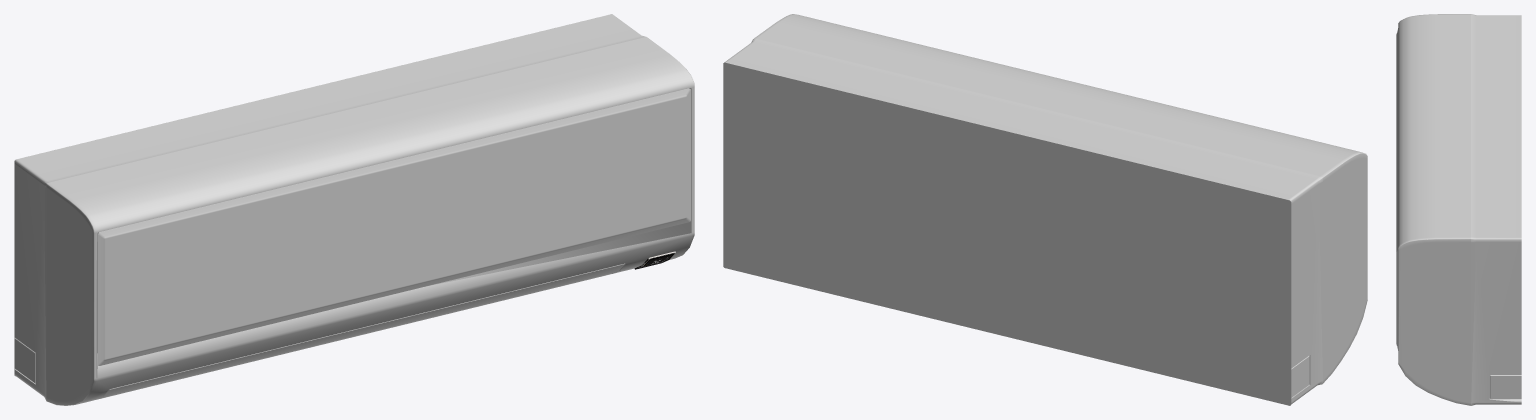
The model's file is air_conditioner.glb.
3 views of the same model, side by side, from view 1: azimuth 30°, elevation 25°; view 2: azimuth 150°, elevation 25°; view 3: azimuth 270°, elevation 25° (orthographic). The views are drawn at different scales.
Visible parts, largest first — view 1: Conditioner; view 2: Shape001, Conditioner; view 3: Conditioner.
Part boxes in pixels (x1,y1,x2,y2): Conditioner: [14, 14, 694, 405]; Shape001: [723, 62, 1291, 405]; Conditioner: [724, 14, 1367, 403]; Conditioner: [1396, 14, 1521, 405].
Bounding box in the file's own units: 0.82 × 0.285 × 0.1927.
Materials: 2 (1 with a texture image).
